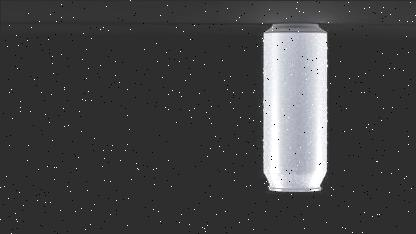Can: (261, 23, 327, 193)
